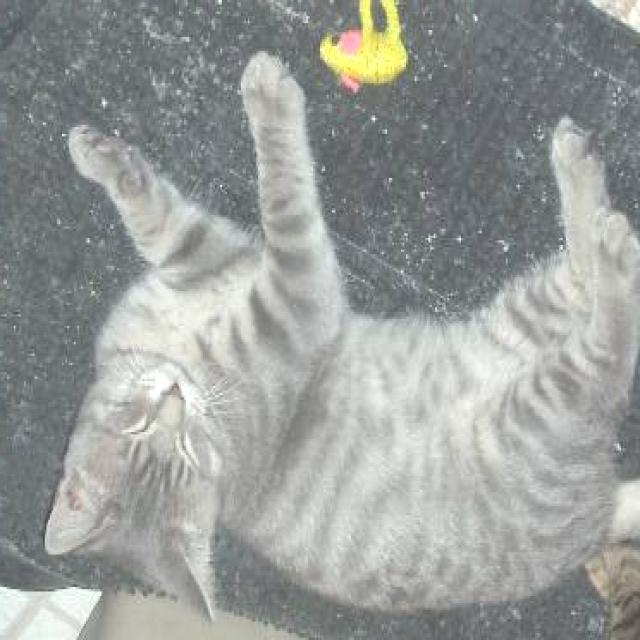Kucing: (12, 70, 626, 622)
